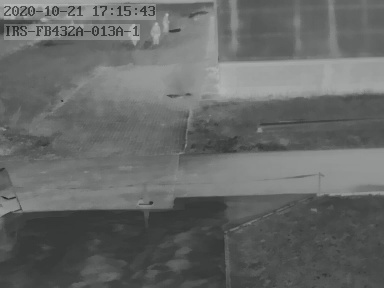person: (150, 21, 162, 46), (161, 12, 171, 36)
